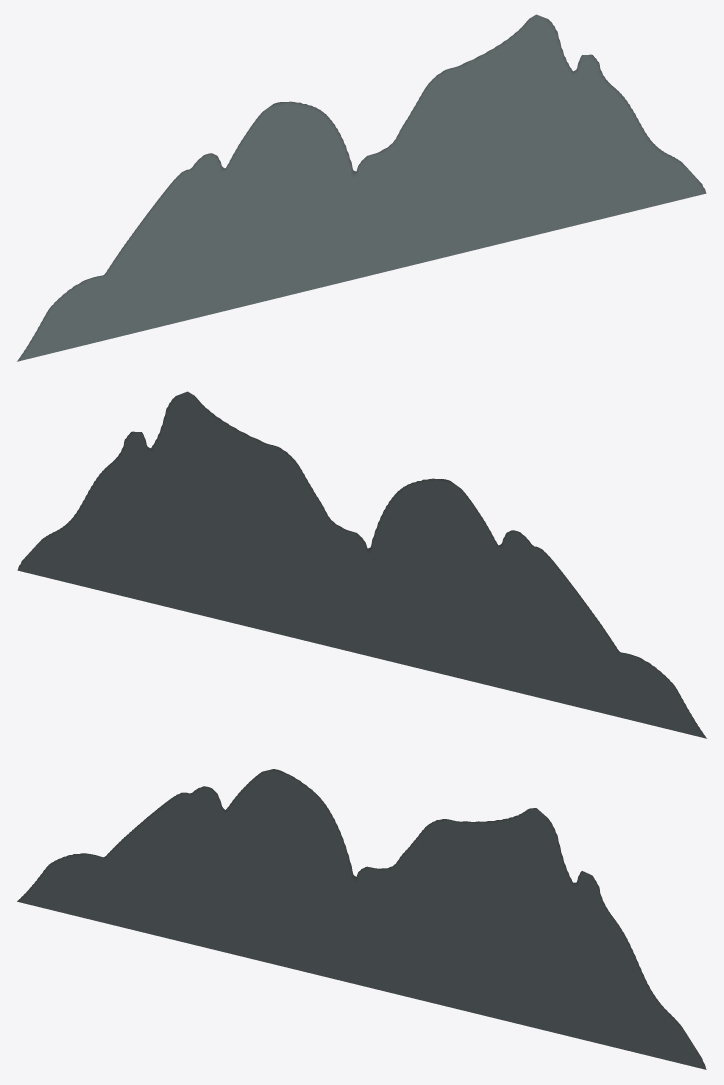
File: outside_model_04_mountain002.FBX
3 views of the same model, one above another, from view 1: azimuth 30°, elevation 25°; view 2: azimuth 150°, elevation 25°; view 3: azimuth 330°, elevation 25° (orthographic).
Visible parts, largest first — view 1: outside_model_04_mountain002; view 2: outside_model_04_mountain002; view 3: outside_model_04_mountain002.
Part boxes in pixels (x1=…): outside_model_04_mountain002: x1=17, y1=14, x2=706, y2=361; outside_model_04_mountain002: x1=17, y1=391, x2=706, y2=738; outside_model_04_mountain002: x1=17, y1=769, x2=706, y2=1069.
Bounding box in the file's own units: 6.69 × 2.03 × 1.04e-06.
